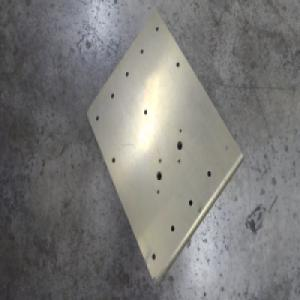MetalSheet: (85, 9, 244, 286)
